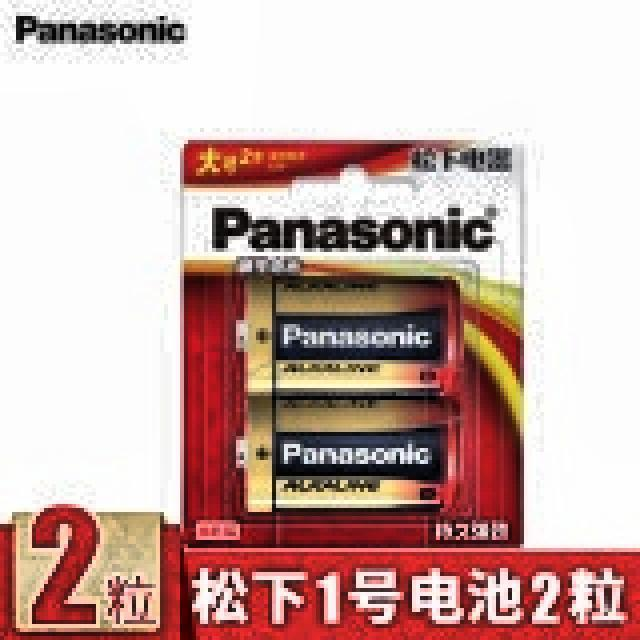battery: (235, 279, 460, 513)
